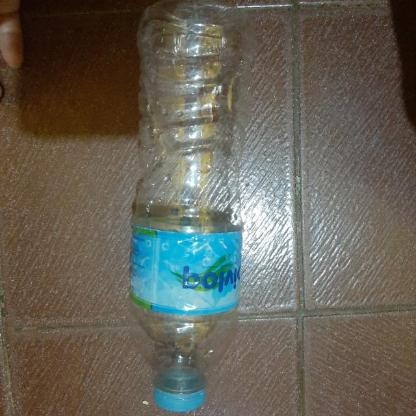Plastic Bottle: (126, 4, 250, 416)
